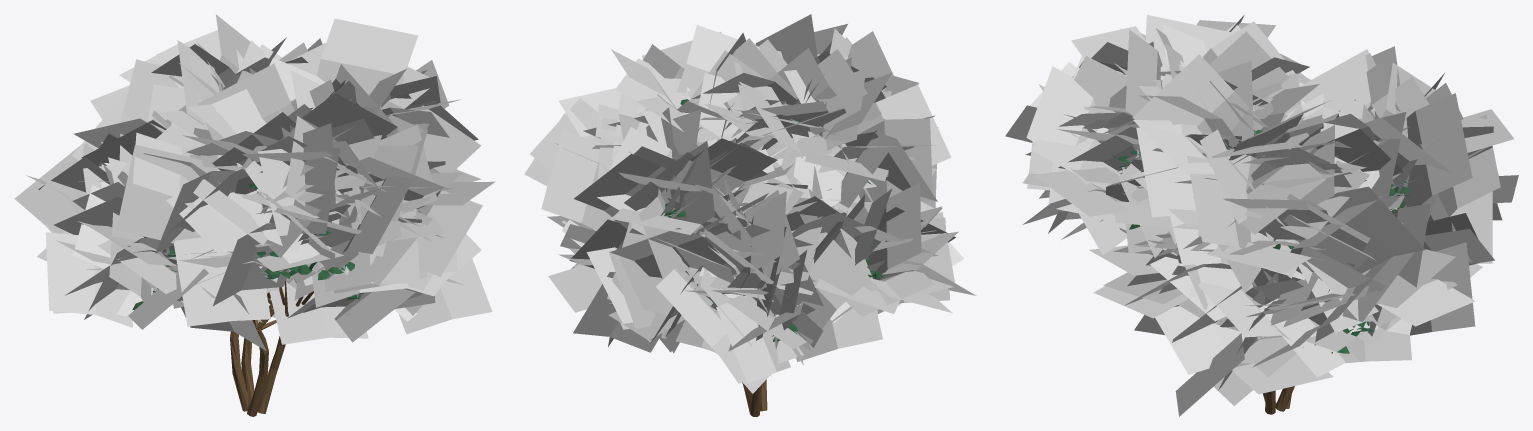
Rendered from Myrte_Dense_LOD1.fbx.
3 views of the same model, side by side, from view 1: azimuth 30°, elevation 25°; view 2: azimuth 150°, elevation 25°; view 3: azimuth 270°, elevation 25° (orthographic). The views are drawn at different scales.
Visible parts, largest first — view 1: Myrte_Dense_LOD1; view 2: Myrte_Dense_LOD1; view 3: Myrte_Dense_LOD1.
Boxes of the visible parts, x1,y1,x2,y2 form: Myrte_Dense_LOD1: (14, 14, 495, 416); Myrte_Dense_LOD1: (524, 14, 976, 416); Myrte_Dense_LOD1: (1005, 15, 1518, 416).
Bounding box in the file's own units: 307 × 251 × 302.
